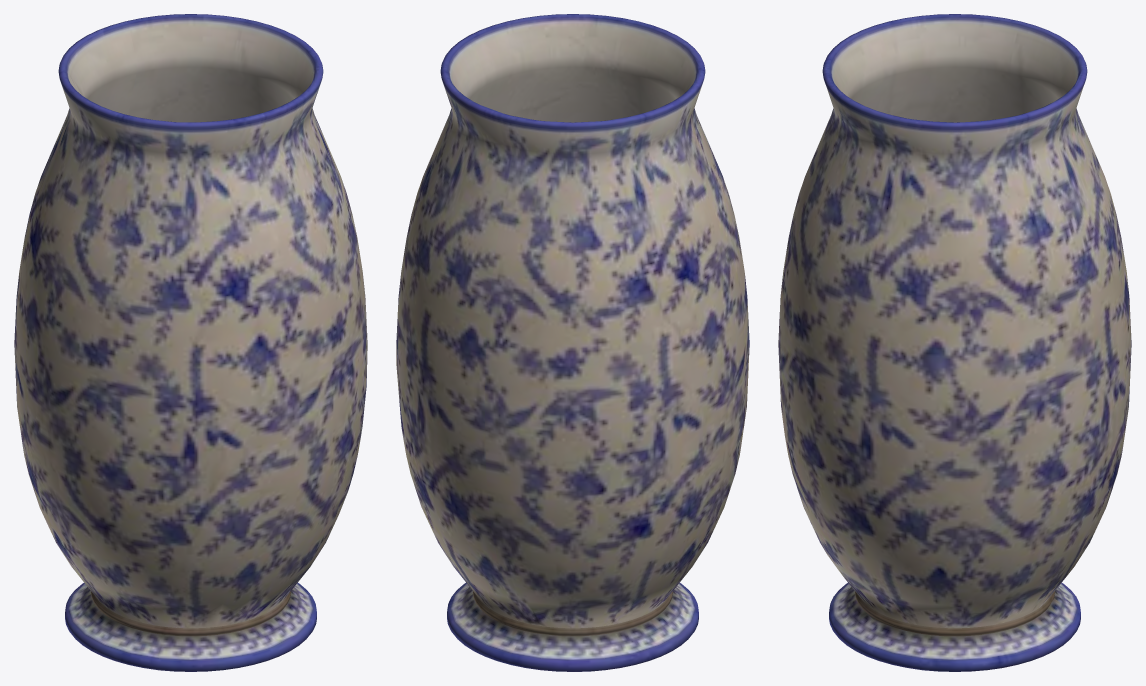
The model's file is antique_ceramic_vase_01.glb.
3 views of the same model, side by side, from view 1: azimuth 30°, elevation 25°; view 2: azimuth 150°, elevation 25°; view 3: azimuth 270°, elevation 25° (orthographic).
Parts seen in each view (by area): view 1: antique_ceramic_vase_01; view 2: antique_ceramic_vase_01; view 3: antique_ceramic_vase_01.
Part boxes in pixels (x1,y1,x2,y2): antique_ceramic_vase_01: (14, 14, 367, 671); antique_ceramic_vase_01: (396, 14, 749, 671); antique_ceramic_vase_01: (778, 14, 1131, 671).
Size of the model in its own units: 0.255 by 0.4396 by 0.255.
Materials: 1 (1 with a texture image).
